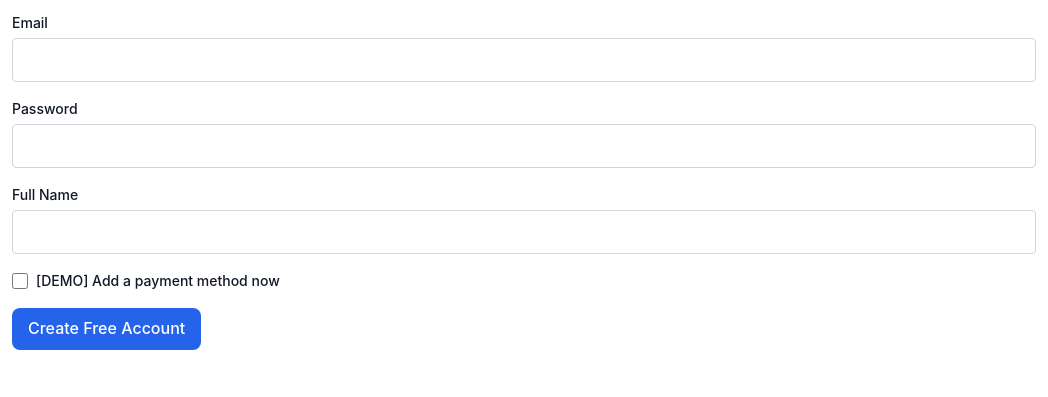
Test: <RegisterForm /> › when submitted with a password that fails the backend rules › should show the failing password rules inline
Type "traveler@example.com" into the field labelled "Email".
click(524, 60); type("traveler@example.com")  # box top-left (12, 38), bottom-right (1036, 82)
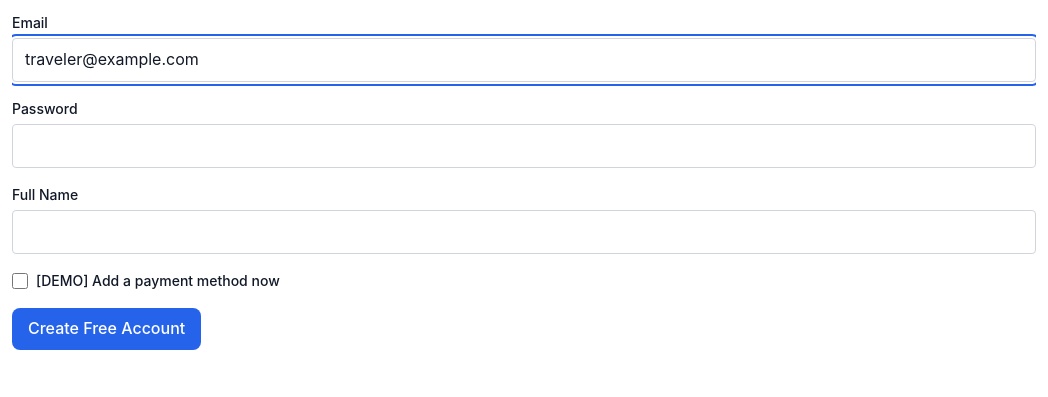
Type "weak" into the password field labelled "Password".
click(524, 146); type("weak")  # box top-left (12, 124), bottom-right (1036, 168)
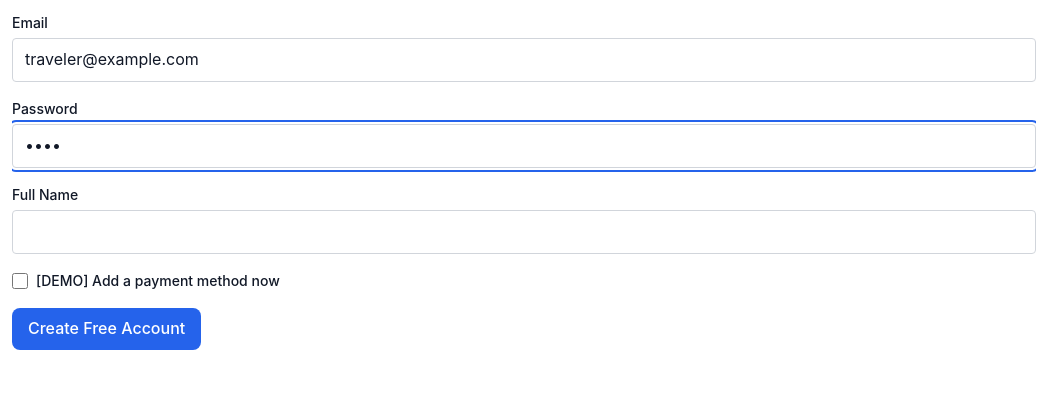
Type "Ada Traveler" into the field labelled "Full Name".
click(524, 232); type("Ada Traveler")  # box top-left (12, 210), bottom-right (1036, 254)
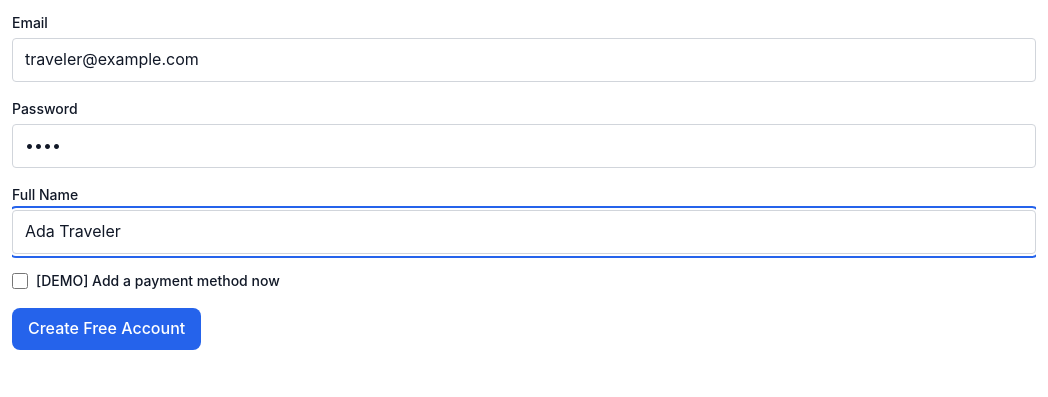
Click the button "Create Free Account".
click(107, 329)  # box top-left (12, 308), bottom-right (201, 350)
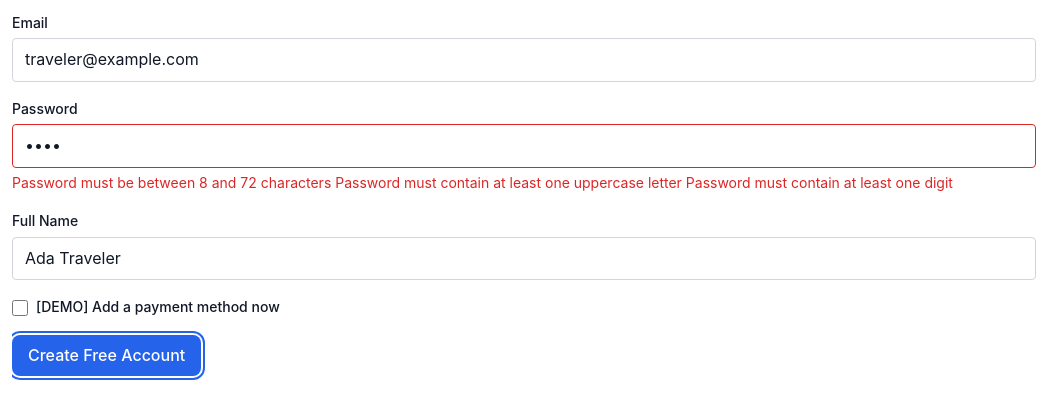
expect the text "must be between 8 and 72 characters" is shown: met, box top-left (12, 174), bottom-right (953, 191)
